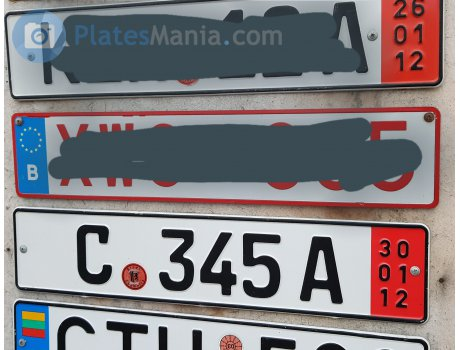License Plates: (70, 219, 354, 302)
